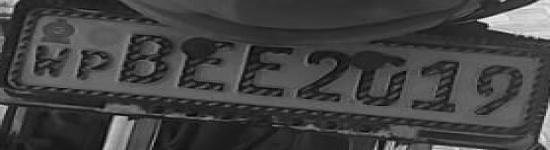0: (352, 51, 408, 112)
1: (410, 56, 466, 116)
2: (298, 44, 352, 107)
9: (468, 61, 526, 120)
B: (117, 32, 172, 90)
E: (175, 34, 236, 99), (238, 39, 295, 106)
P: (74, 46, 113, 86)
W: (30, 40, 74, 80)
